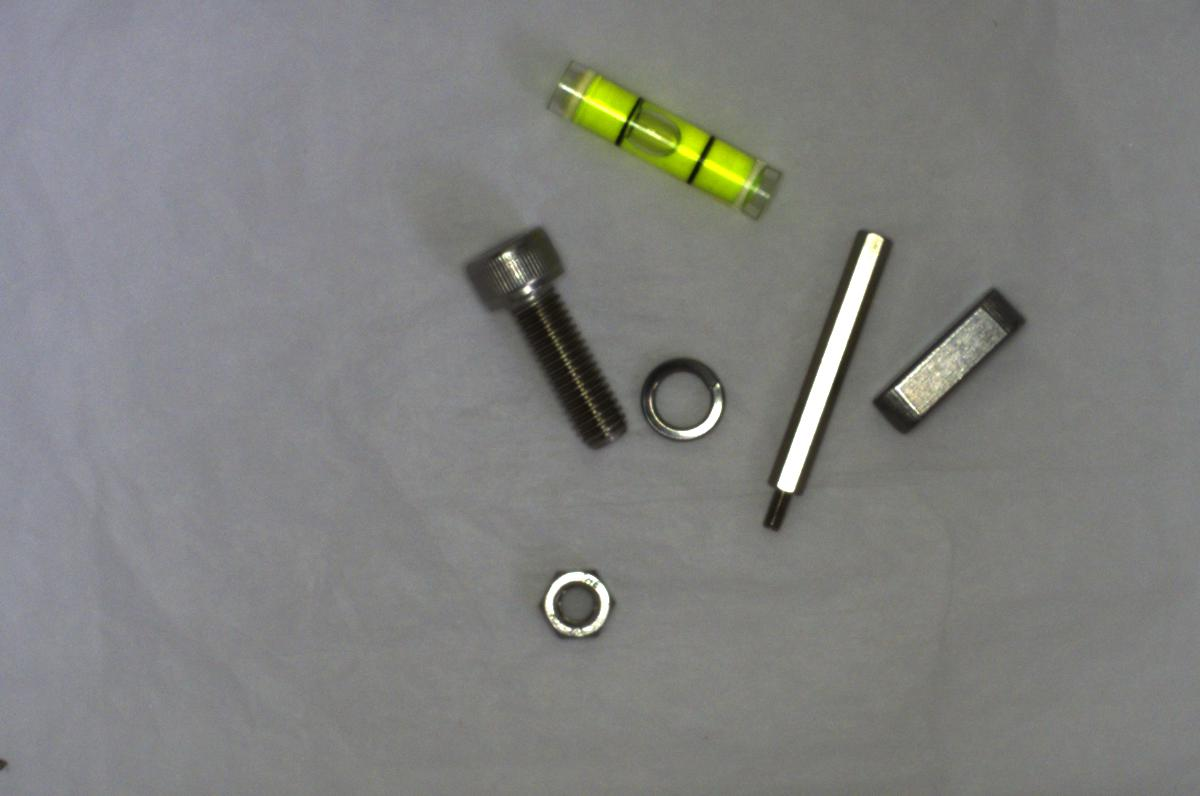Hexagon nut: (532, 553, 620, 641)
Hexagon screw: (459, 219, 631, 452)
Hexagonal steel column: (748, 218, 890, 529)
Horizontal bubble: (541, 59, 792, 219)
Keybar: (880, 280, 1033, 433)
Spring washer: (632, 349, 734, 443)
